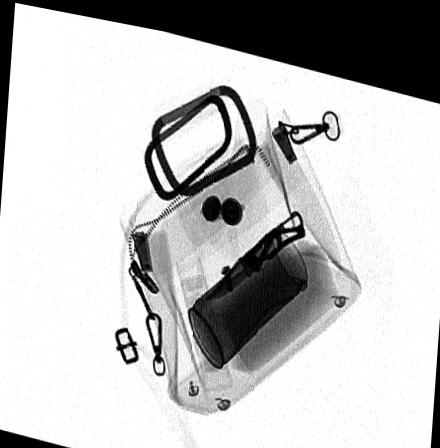Knife: (201, 197, 305, 292)
